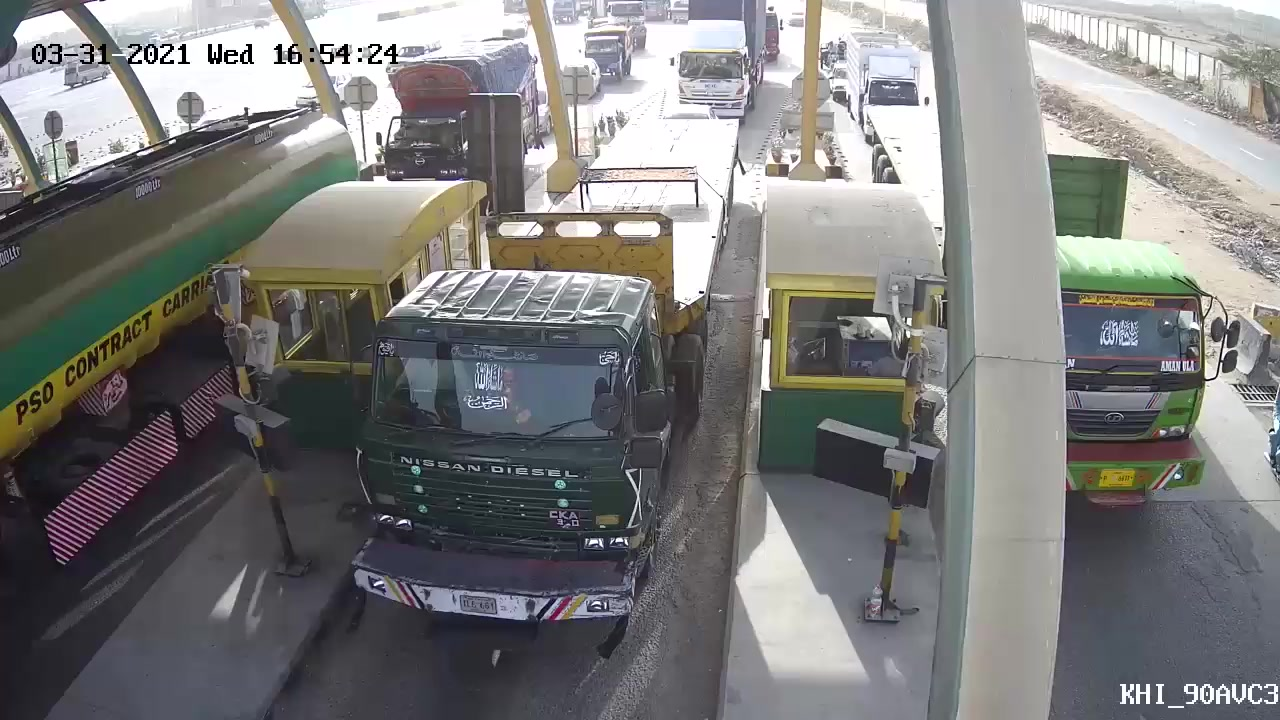F5: (363, 118, 735, 653)
